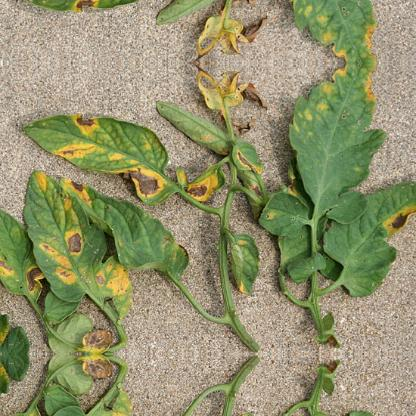Early-Blight: (20, 81, 186, 201), (17, 166, 95, 286), (294, 61, 390, 150), (19, 0, 186, 43), (188, 62, 274, 134), (294, 0, 389, 62), (188, 0, 274, 62), (139, 201, 201, 285), (212, 225, 270, 299), (86, 247, 144, 315), (0, 235, 46, 305), (228, 136, 276, 200), (179, 148, 229, 204), (377, 178, 415, 248), (70, 318, 130, 352), (70, 354, 130, 388), (86, 391, 143, 416), (0, 401, 46, 416)
